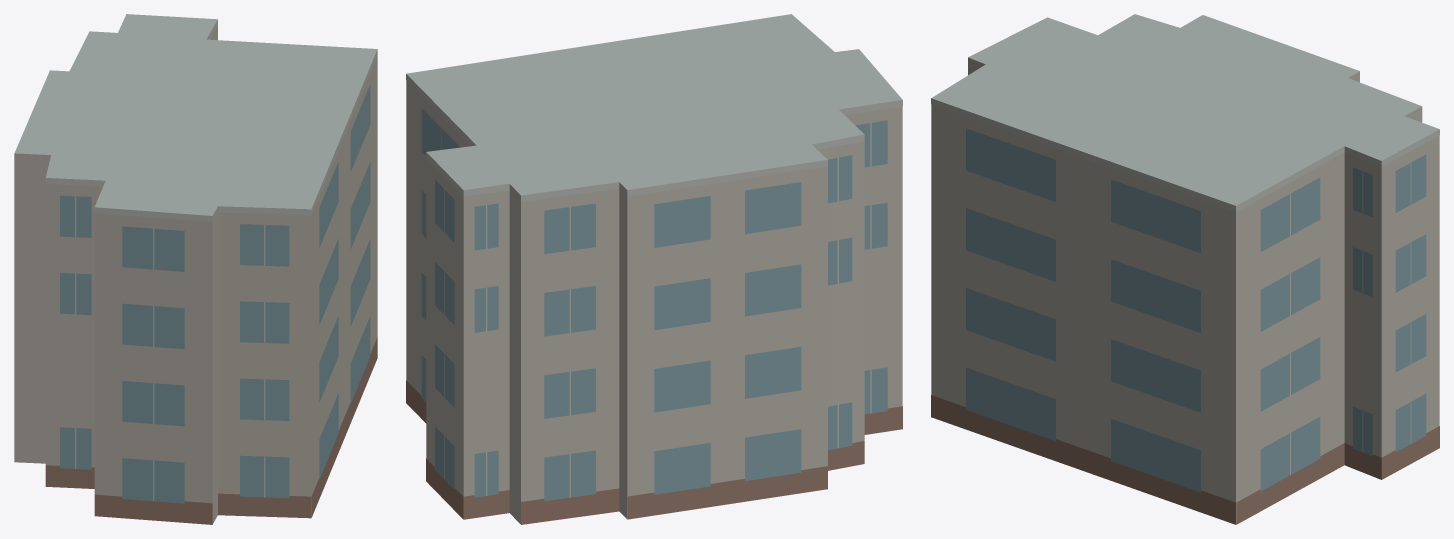
The model's file is survey-upis-32780527.glb.
3 renders of one model, left to right at view 1: azimuth 30°, elevation 25°; view 2: azimuth 150°, elevation 25°; view 3: azimuth 270°, elevation 25°, orthographic. The views are drawn at different scales.
Parts seen in each view (by area): view 1: survey-upis-32780527.tmp; view 2: survey-upis-32780527.tmp; view 3: survey-upis-32780527.tmp.
Boxes of the visible parts, box(x1,y1,x2,y2) form: survey-upis-32780527.tmp: box(14, 14, 377, 524); survey-upis-32780527.tmp: box(406, 14, 902, 524); survey-upis-32780527.tmp: box(931, 14, 1439, 524).
Bounding box in the file's own units: 16.14 × 12.5 × 18.08.
